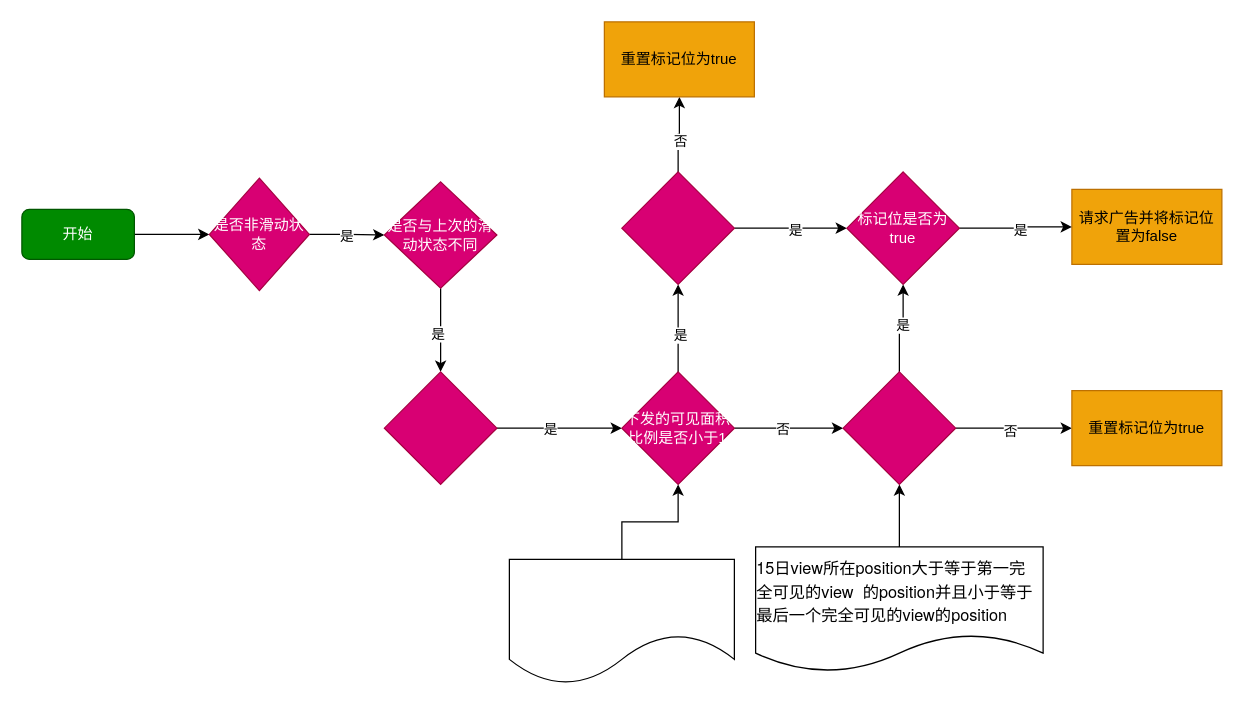
This 1244x706 diagram has some shape labels left out. Here are the shapes that lost their labels. From the top down, the centre of each, then its label:
At point (677, 227): "可见面积是否达到配置比例".
At point (440, 427): "是否有15广告模块".
At point (899, 427): "是否完全可见".
At point (621, 621): "判断广告view可见面积的大小,不使用其在recyclerView的可见面积判断".
